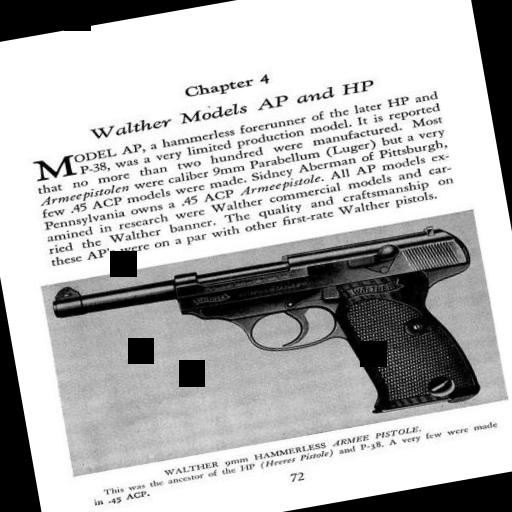Handgun: (44, 214, 497, 470)
